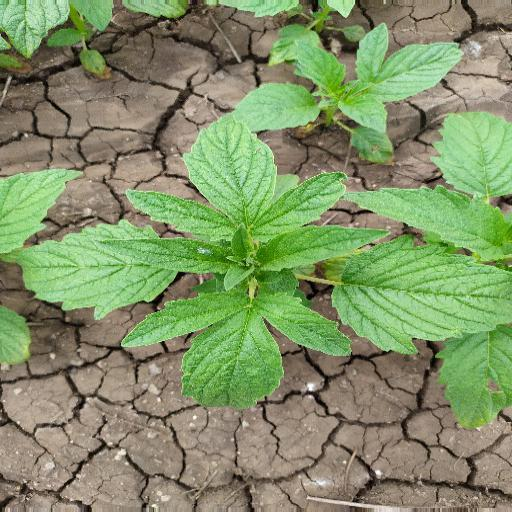crop: (16, 105, 398, 441), (344, 109, 512, 445), (212, 4, 470, 164)
